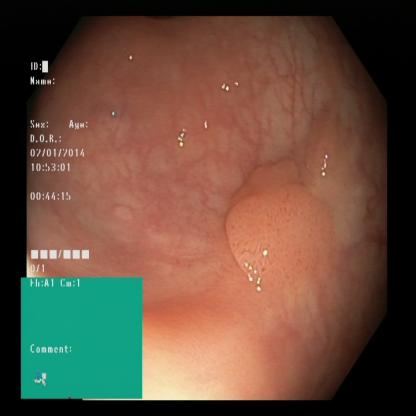Labels: (26, 62, 98, 274), (22, 275, 142, 400)
Polyps: (226, 178, 318, 278)
